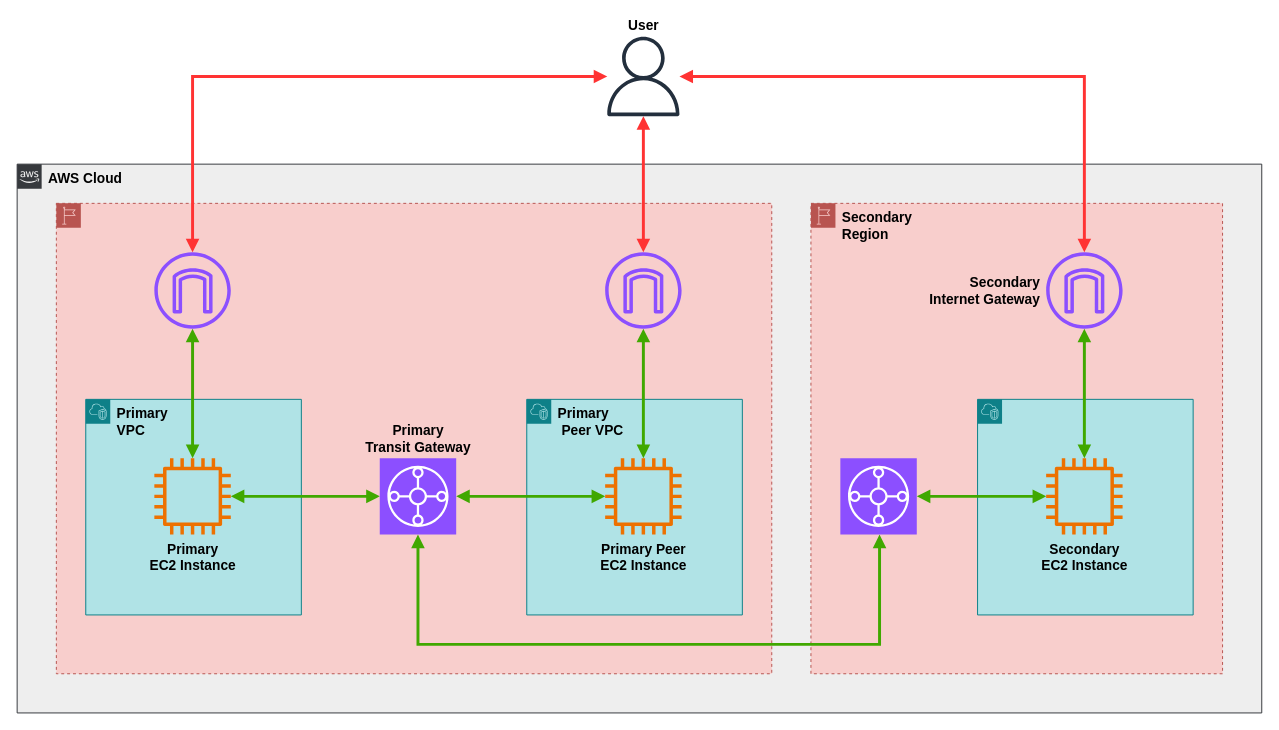
This 1279x730 diagram has some shape labels left out. Each missing label, with the box of its shape:
Primary Internet Gateway: (154, 252, 230, 328)
Primary Peer Internet Gateway: (605, 252, 681, 328)
Primary Region: (55, 202, 772, 674)
Secondary Transit Gateway: (839, 457, 917, 535)
Secondary VPC: (977, 398, 1193, 615)
